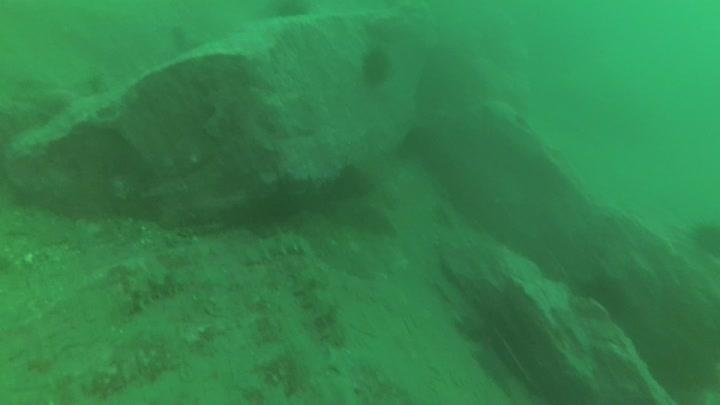echinus: (331, 161, 374, 201), (357, 44, 395, 89), (689, 218, 720, 258)
holothurian: (290, 267, 350, 351), (112, 262, 188, 317), (240, 226, 315, 267)
